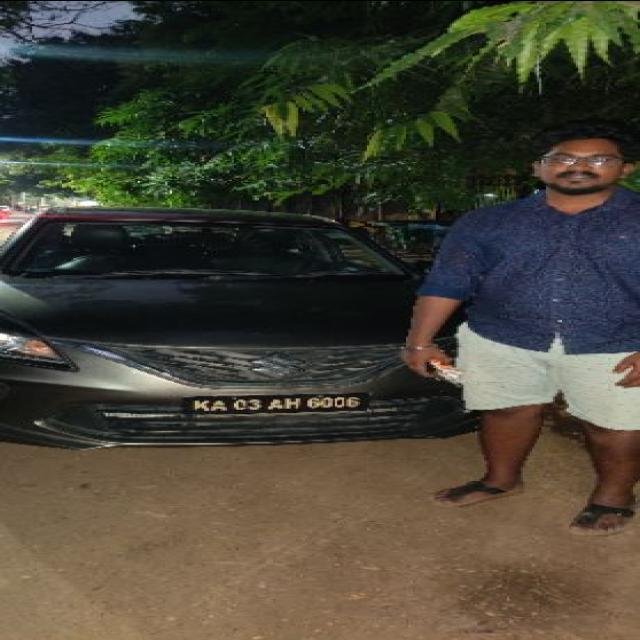license_plate: (179, 391, 372, 414)
